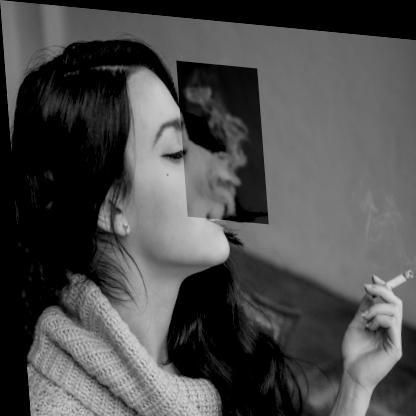smoke: (176, 57, 266, 219)
